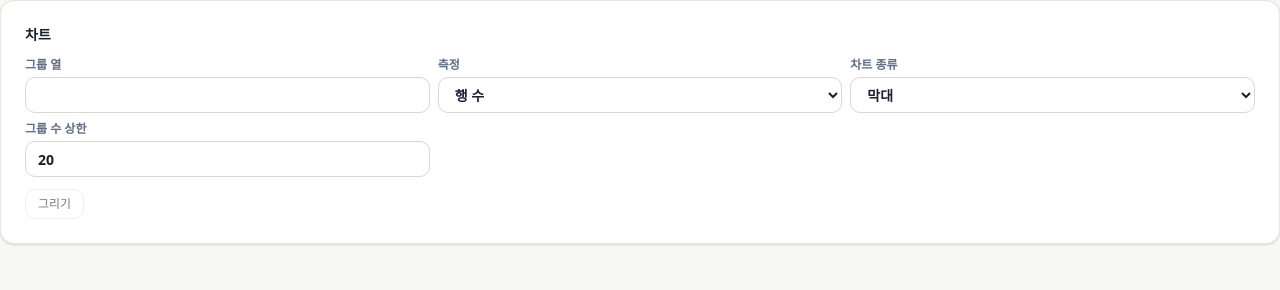
the aggregate panel asks Builder and shows what it covers › a sum is blocked until the person says the column is additive
In the field labelled "그룹 열": point(227, 95) [25,77,430,113], type "station"
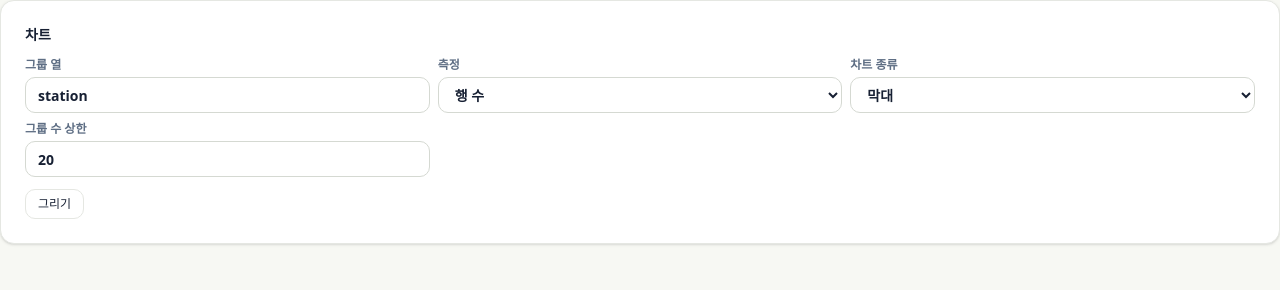
Select "합계" in the dropdown labelled "측정": point(640, 95) [438,77,842,113]
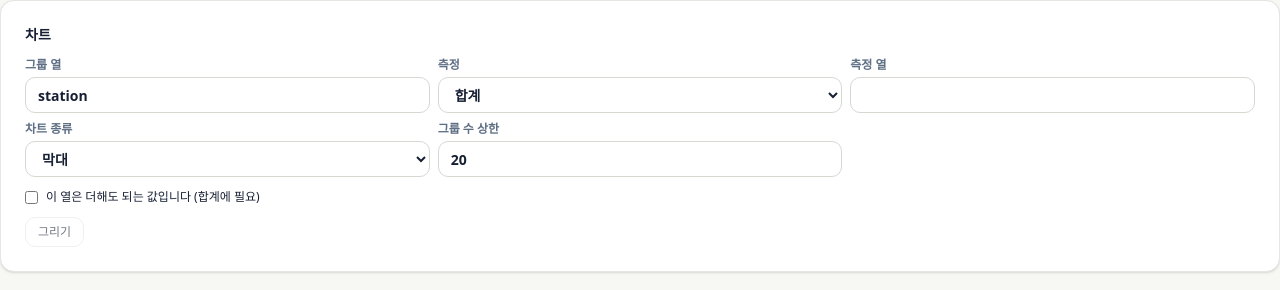
In the field labelled "측정 열": point(1053, 95) [850,77,1255,113], type "pm10"
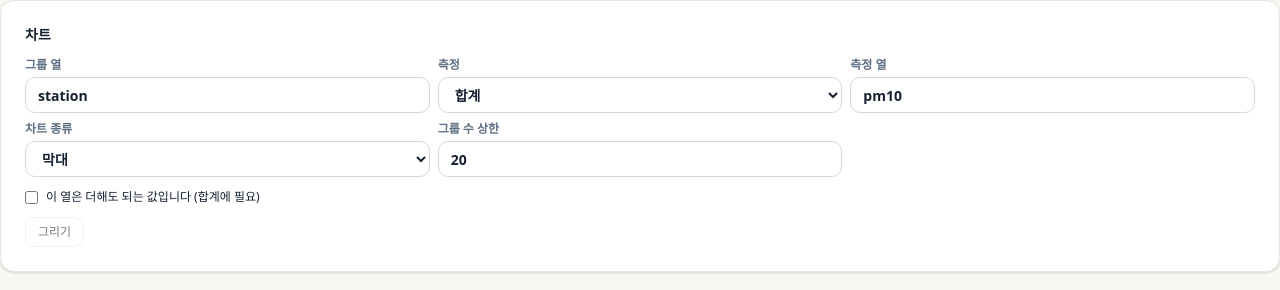
Result: the button "그리기" is disabled at [25,217,84,247]
Click the checkbox: point(32, 197) [25,190,38,204]
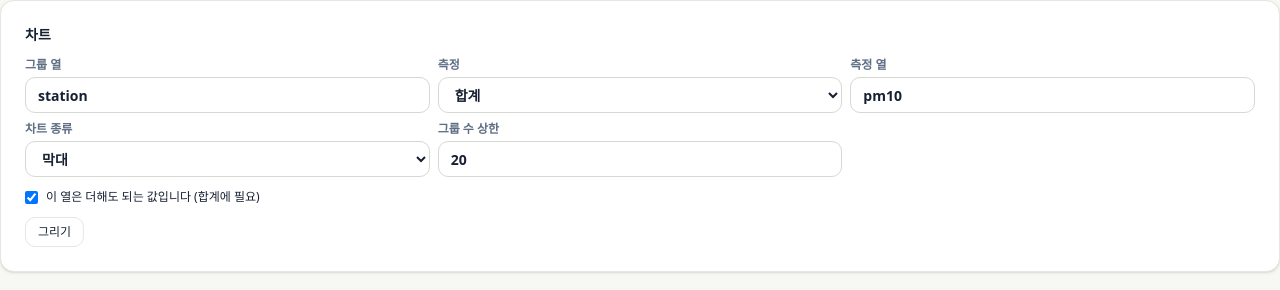
Result: the button "그리기" is enabled at [25,217,84,247]
